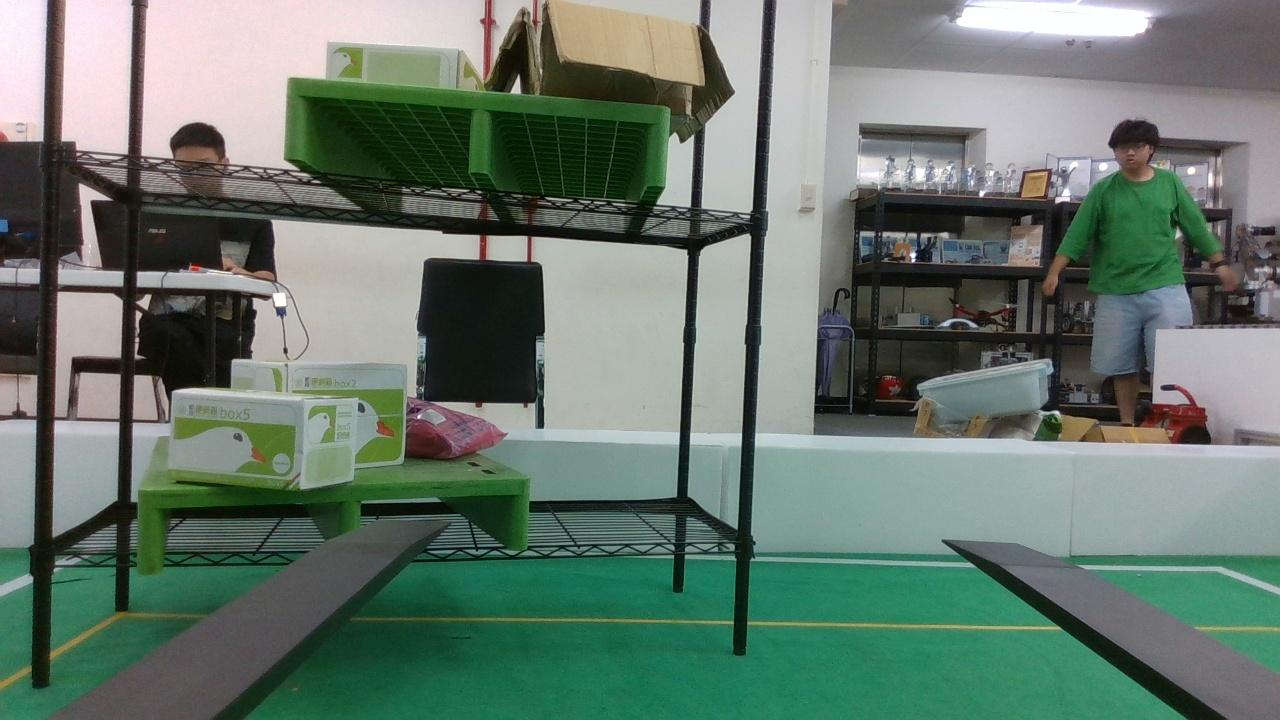Pallet: (278, 77, 674, 190), (129, 473, 537, 571)
